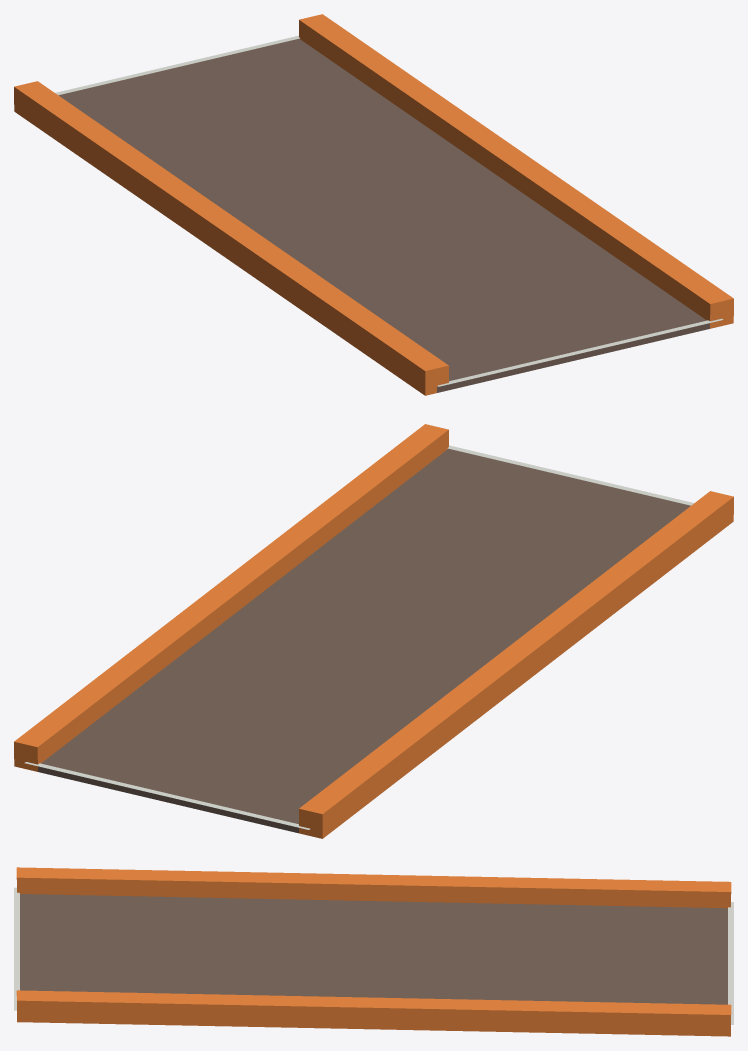
Rendered from SM_MP_Film_A_1_0.fbx.
3 renders of one model, top to bottom at view 1: azimuth 30°, elevation 25°; view 2: azimuth 150°, elevation 25°; view 3: azimuth 270°, elevation 25°, orthographic. The views are drawn at different scales.
Parts seen in each view (by area): view 1: SM_MP_Film_A_1_0; view 2: SM_MP_Film_A_1_0; view 3: SM_MP_Film_A_1_0.
Boxes of the visible parts, x1,y1,x2,y2 form: SM_MP_Film_A_1_0: (14,14,733,395); SM_MP_Film_A_1_0: (14,424,733,838); SM_MP_Film_A_1_0: (14,867,733,1036).
Size of what is drawn, in the model's own units: 260 by 605 by 35.57.
